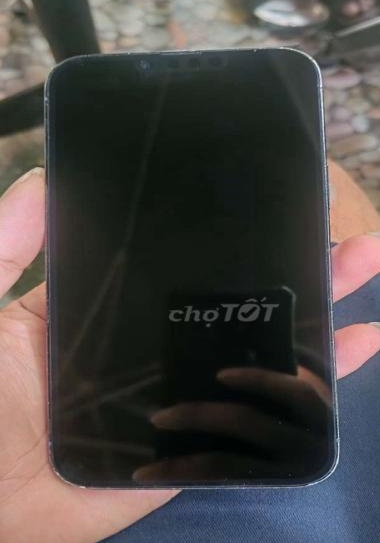scratch: (288, 47, 367, 504), (26, 436, 372, 504)
